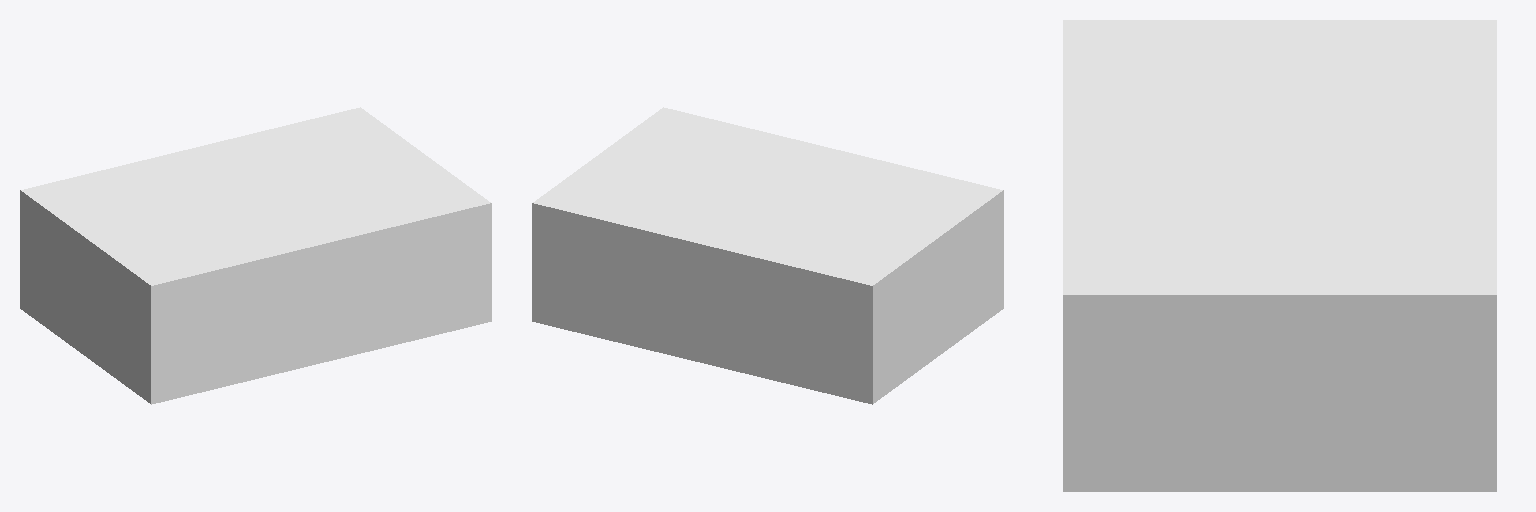
The robot description file, URDF, robot "tf_simulation2":
<robot name="tf_simulation2">
    <material name="black">
        <color rgba="0 0 0 0.7"/>
    </material>
    <material name="white">
        <color rgba="1 1 1 0.7"/>
    </material>

    <link name="base_link">
        <visual>
            <geometry>
                <box size="0.3 0.2 0.1"/>
            </geometry>
            <origin rpy="0 0 0" xyz="0 0 0"/>
            <material name="white" />
        </visual>
    </link>

    <joint name="base_to_ball_joint" type="fixed">
        <!-- <origin rpy="0 0 0" xyz="0 0.125 -0.05"/> -->
        <parent link="base_link"/>
        <child link="ball_link"/>
    </joint>
    <link name="ball_link">
        <visual>
            <origin rpy="0 0 0" xyz="0 0 0"/>
            <geometry>
                <sphere radius="0.025"/>
            </geometry>
            <material name="white" />
        </visual>
    </link>

    <joint name="base_to_wheel_R" type="fixed">
        <!-- <origin rpy="0 -1.57079632679 0" xyz="0.125 -0.1 -0.025"/> -->
        <parent link="base_link"/>
        <child link="wheel_R"/>
    </joint>
    <link name="wheel_R">
        <visual>
            <geometry>
                <cylinder length="0.05" radius="0.05"/>
            </geometry>
            <origin rpy="0 0 0" xyz="0 0 0"/>
            <material name="black"/>
        </visual>
    </link>

    <joint name="base_to_wheel_L" type="fixed">
        <!-- <origin rpy="0 -1.57079632679 0" xyz="-0.125 -0.1 -0.025"/> -->
        <parent link="base_link"/>
        <child link="wheel_L"/>
    </joint>
    <link name="wheel_L">
        <visual>
            <geometry>
                <cylinder length="0.05" radius="0.05"/>
            </geometry>
            <origin rpy="0 0 0" xyz="0 0 0"/>
            <material name="black"/>
        </visual>
    </link>

    <joint name="laser_joint" type="fixed">
        <parent link="base_link"/>
        <child link="laser_link"/>
        <!-- <origin rpy="0 0 1.57079632679" xyz="0 0.13 0.07"/> -->
    </joint>
    <link name="laser_link">
        <visual>
            <origin rpy="0 0 0" xyz="0 0 0"/>
            <geometry>
                <cylinder length="0.04" radius="0.02"/>
            </geometry>
            <material name="rad">
                <color rgba="1 0 0 0.7"/>
            </material>
        </visual>
    </link>
</robot>

--- What the picture shows (computed from the rendered views, not written in the file) ---
Views: 3 orthographic renders of the robot side by side, from view 1: azimuth 30°, elevation 25°; view 2: azimuth 150°, elevation 25°; view 3: azimuth 270°, elevation 25°.
Model tf_simulation2 with 5 links and 4 joints (4 fixed), rooted at base_link, posed all joints at 0.
Links seen in each view (by area): view 1: base_link; view 2: base_link; view 3: base_link.
Link boxes in pixels (left/top/right/bottom): base_link: left=20, top=107, right=491, bottom=404; base_link: left=532, top=107, right=1003, bottom=404; base_link: left=1063, top=20, right=1496, bottom=491.
Bounding box of the posed robot: 0.3 × 0.2 × 0.1 m (x, y, z).
Geometry: primitives only (box / cylinder / sphere), no mesh files.